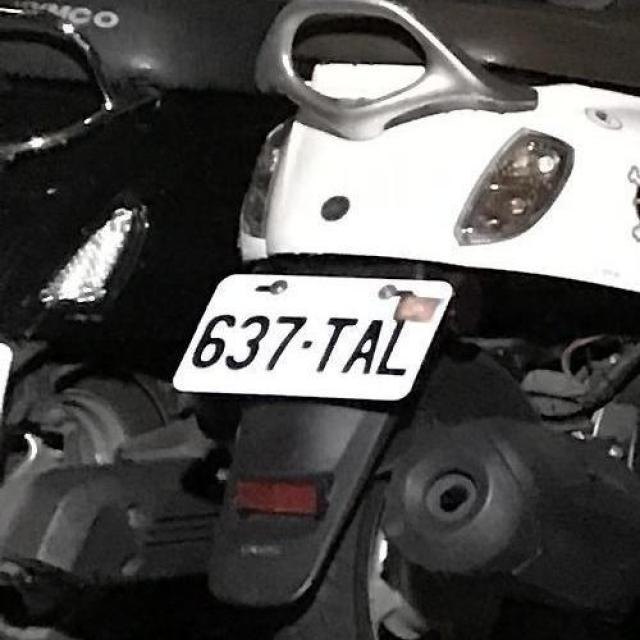W: (168, 253, 454, 416)
